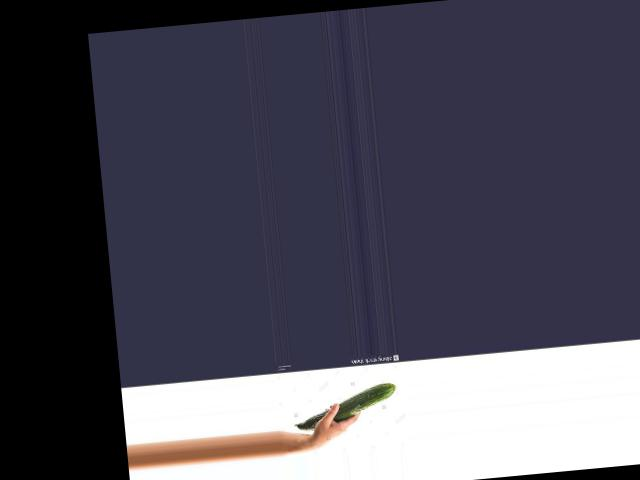cucumber: (290, 381, 398, 431)
